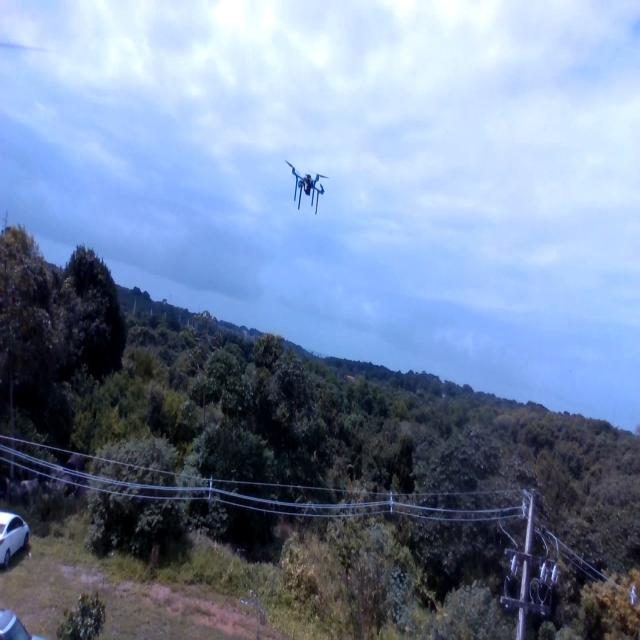-uav-: (277, 141, 335, 228)
